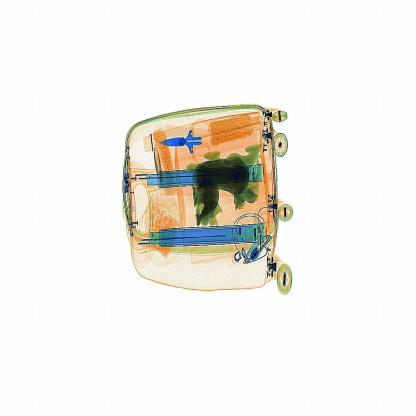gun: (152, 122, 209, 164)
